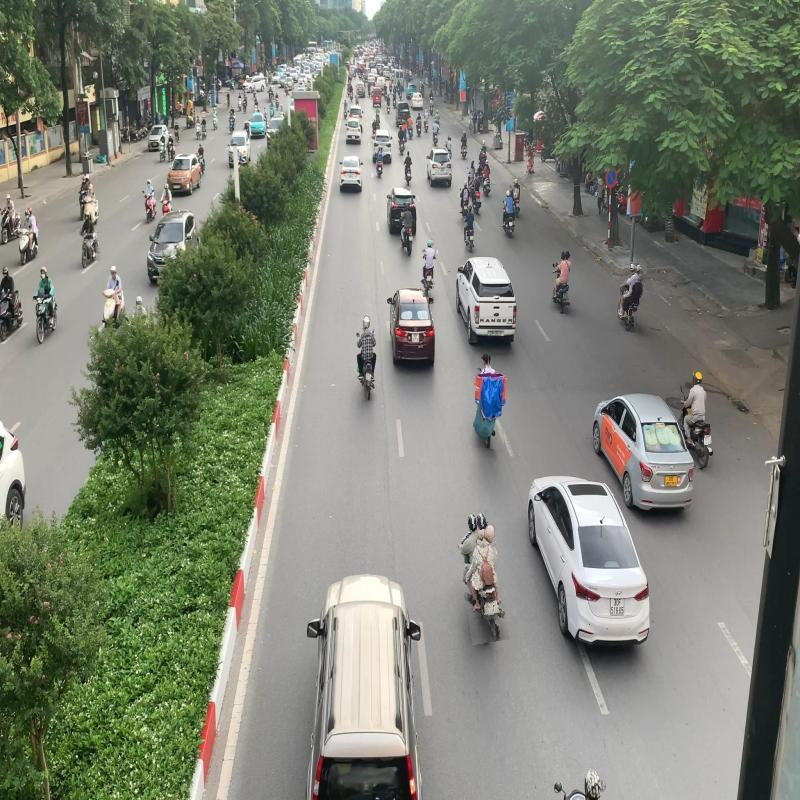helmet: (484, 522, 497, 544), (476, 512, 487, 530), (362, 314, 370, 328), (694, 371, 702, 385), (427, 239, 432, 247)
licenseplate: (483, 602, 494, 616), (366, 372, 372, 381), (704, 436, 710, 445)
motorcyclist: (457, 510, 505, 644), (676, 370, 712, 470), (473, 352, 508, 449), (616, 262, 644, 332), (356, 314, 378, 401), (550, 249, 572, 314), (421, 238, 439, 297)
nohelmet: (481, 353, 489, 366), (630, 263, 637, 273), (560, 251, 566, 260)
